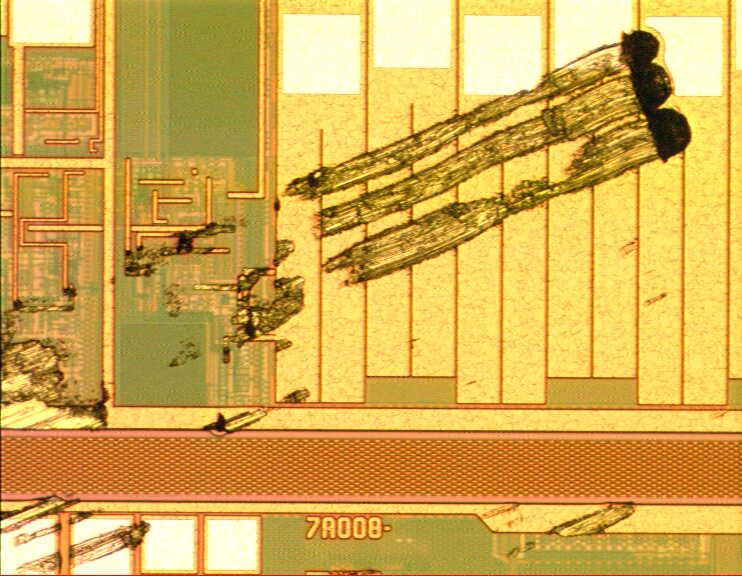SCRATCH: (1, 25, 695, 576)
